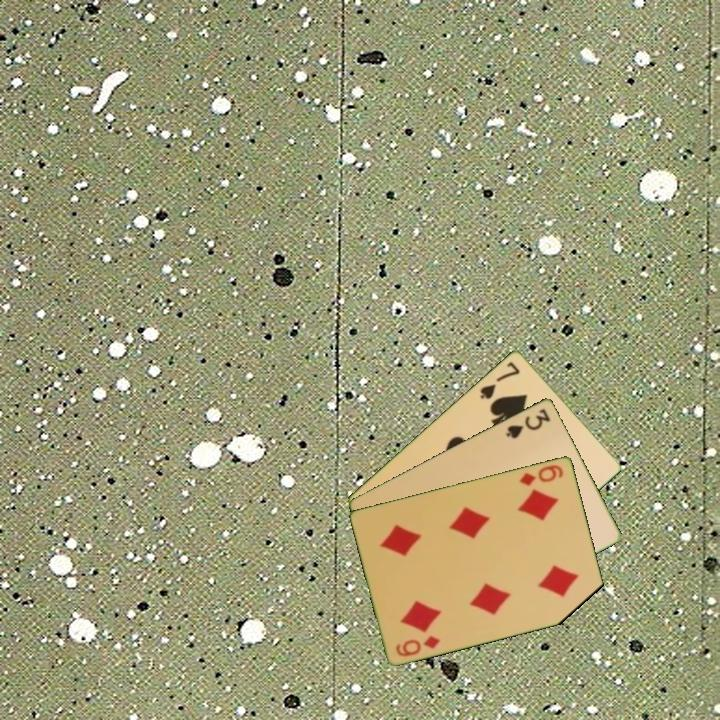3s: (503, 405, 553, 441)
6d: (392, 632, 443, 659), (516, 461, 566, 488)
7s: (476, 357, 523, 402)
